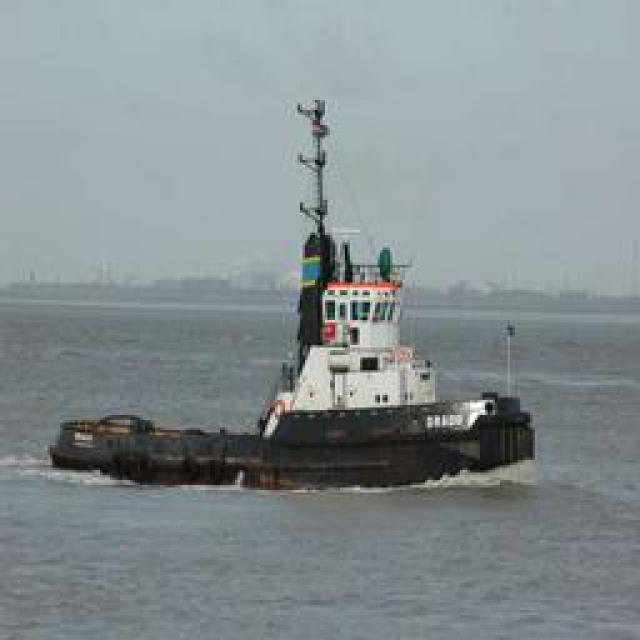Ship: (48, 126, 552, 506)
